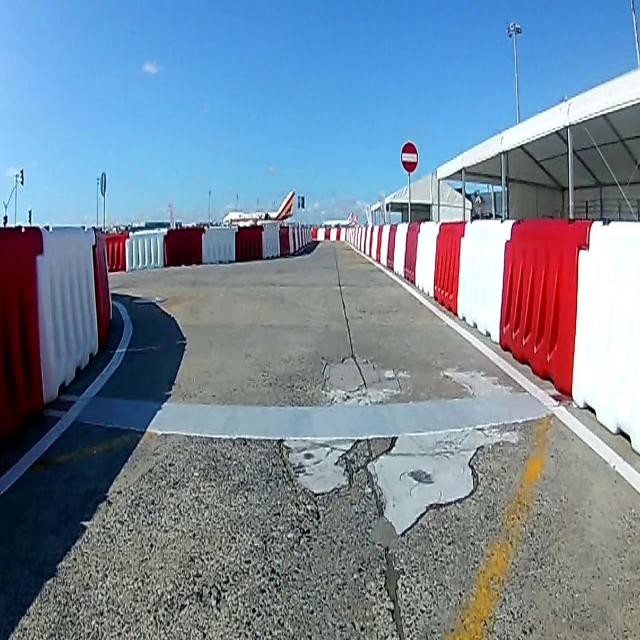girisyok: (399, 140, 419, 174)
